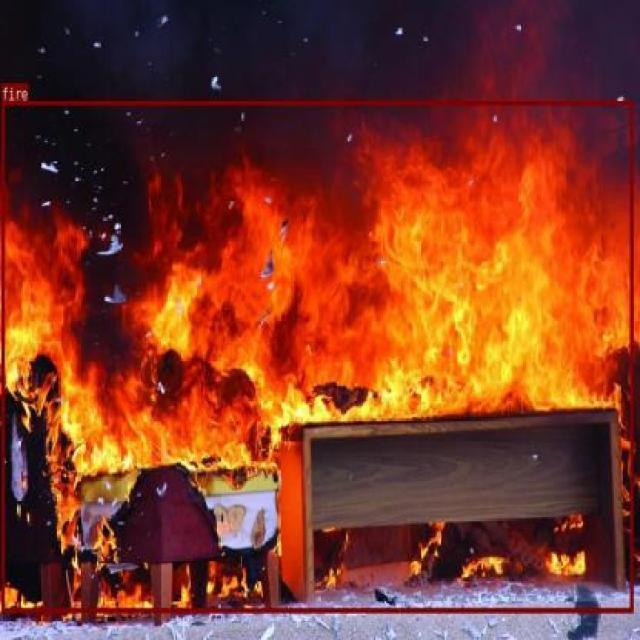fire: (1, 99, 634, 612)
